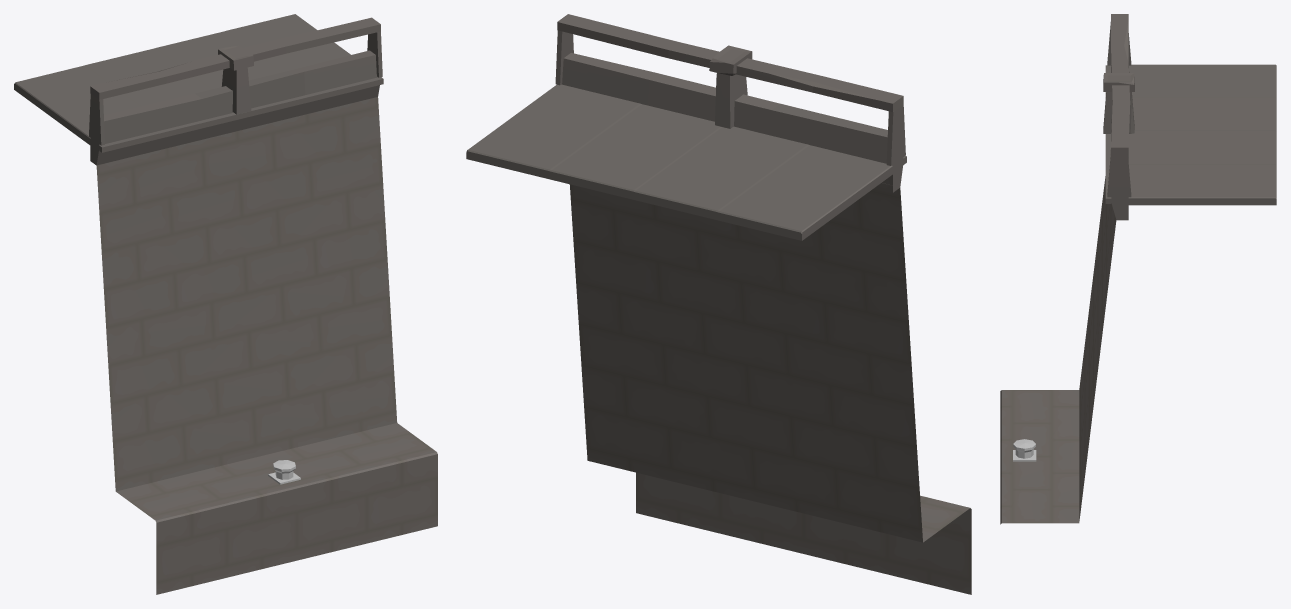
Rendered from NS_River_Wall_Pole.fbx.
3 views of the same model, side by side, from view 1: azimuth 30°, elevation 25°; view 2: azimuth 150°, elevation 25°; view 3: azimuth 270°, elevation 25° (orthographic). The views are drawn at different scales.
Parts seen in each view (by area): view 1: NS_River_Wall_Pole; view 2: NS_River_Wall_Pole; view 3: NS_River_Wall_Pole.
Boxes of the visible parts, x1=… form: NS_River_Wall_Pole: x1=14, y1=14, x2=437, y2=594; NS_River_Wall_Pole: x1=466, y1=14, x2=971, y2=594; NS_River_Wall_Pole: x1=1000, y1=14, x2=1276, y2=524.
Size of the model in its own units: 800 by 1258 by 700.
